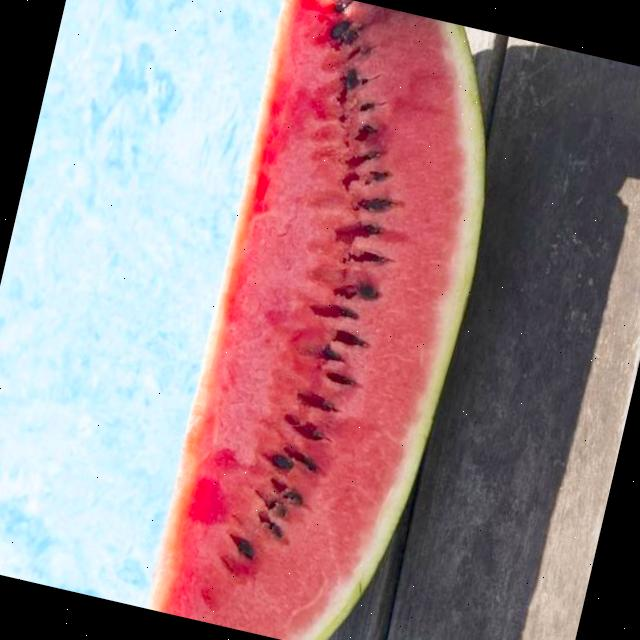watermelon: (134, 0, 530, 640)
